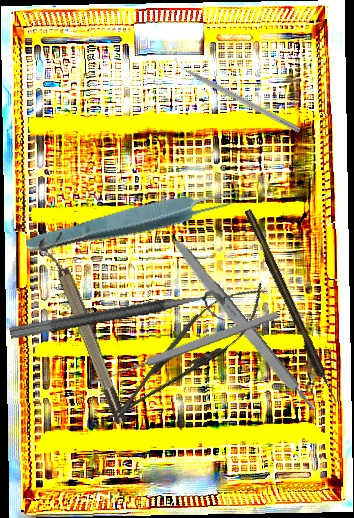Chopper: (170, 52, 305, 134)
Fixation Ring: (36, 231, 131, 429), (8, 288, 229, 358)
Hook Surgical: (243, 208, 339, 405)
Needle Holder: (91, 268, 280, 441)
Scalpel Handle: (164, 232, 319, 417)
Surgical Spoon: (88, 308, 281, 389)
Tissue Forceps: (23, 182, 243, 261)
